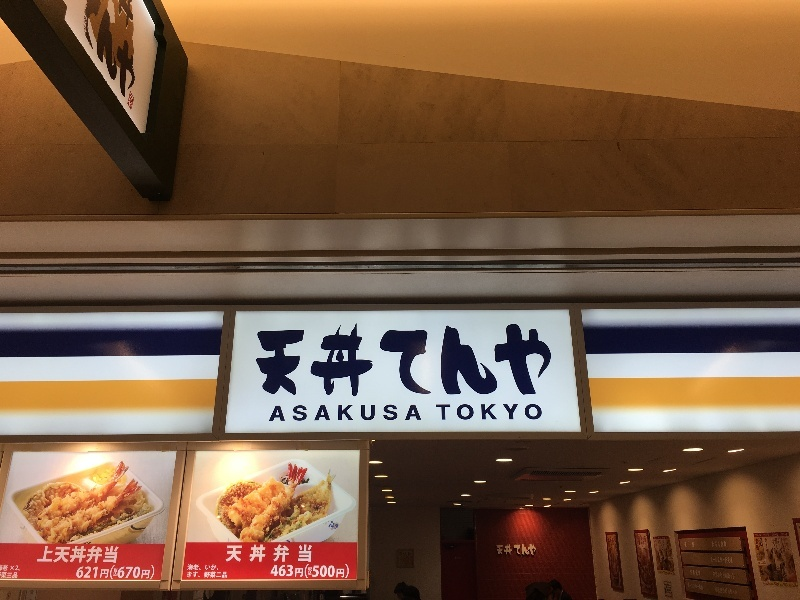text: (81, 1, 96, 115), (97, 1, 112, 115), (113, 1, 128, 115), (129, 1, 142, 115), (257, 321, 272, 398), (273, 321, 288, 398), (289, 321, 304, 398), (305, 321, 320, 398), (321, 321, 336, 398), (337, 321, 352, 398), (353, 321, 368, 398), (369, 321, 384, 398), (385, 321, 400, 398), (401, 321, 416, 398), (417, 321, 432, 398), (433, 321, 448, 398), (449, 321, 464, 398), (465, 321, 480, 398), (481, 321, 496, 398), (497, 321, 512, 398), (513, 321, 528, 398), (529, 321, 544, 398), (769, 533, 784, 591), (785, 533, 800, 591), (545, 321, 556, 398), (755, 533, 768, 591), (721, 557, 736, 598), (250, 321, 256, 398), (710, 557, 720, 598), (689, 571, 704, 593), (49, 547, 64, 565), (65, 547, 80, 565), (81, 547, 96, 565), (97, 547, 112, 565), (241, 546, 256, 564), (257, 546, 272, 564), (273, 546, 288, 564), (289, 546, 304, 564), (449, 404, 464, 421), (465, 404, 480, 421), (481, 404, 496, 421), (497, 404, 512, 421), (513, 404, 528, 421), (529, 404, 544, 421), (289, 405, 304, 421), (305, 405, 320, 421), (321, 405, 336, 421), (337, 405, 352, 421), (353, 405, 368, 421), (369, 405, 384, 421), (385, 405, 400, 421), (401, 405, 416, 421), (227, 546, 240, 564), (81, 566, 96, 581), (97, 566, 112, 581), (113, 566, 128, 581), (129, 566, 144, 581), (273, 565, 288, 580), (289, 565, 304, 580), (305, 565, 320, 580), (321, 565, 336, 580), (497, 544, 512, 558), (513, 544, 528, 558), (275, 405, 288, 421), (436, 404, 448, 421), (337, 565, 349, 580), (145, 566, 155, 581), (305, 546, 313, 564), (113, 547, 120, 565), (529, 544, 538, 558), (79, 1, 80, 115), (417, 405, 424, 421), (1, 565, 16, 572), (1, 572, 16, 579), (193, 565, 208, 572), (193, 572, 208, 579), (209, 572, 224, 579), (711, 541, 720, 550), (209, 565, 220, 572), (721, 541, 728, 550), (45, 547, 48, 565), (331, 521, 336, 531), (689, 541, 695, 549), (737, 557, 738, 598), (684, 541, 688, 549), (78, 566, 80, 581), (270, 565, 272, 580), (337, 521, 340, 531), (17, 565, 21, 572), (188, 565, 192, 572), (188, 572, 192, 579), (225, 572, 228, 579), (17, 572, 18, 579)
